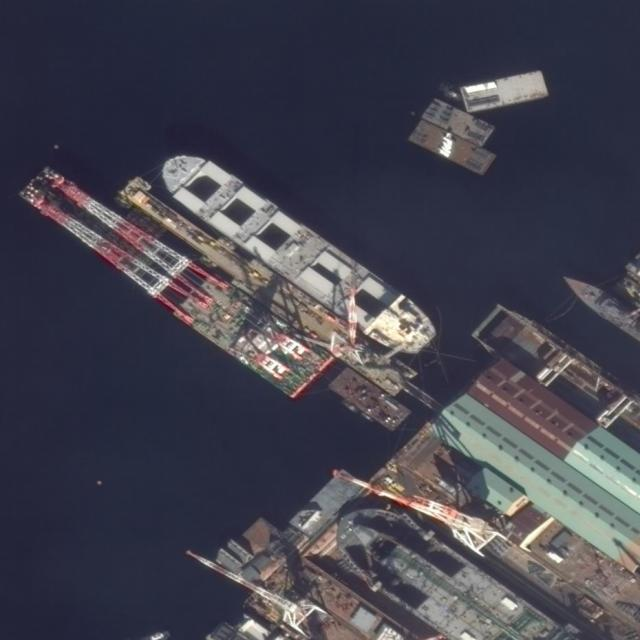Cargo: (149, 133, 449, 370)
Dock: (113, 173, 443, 416)
